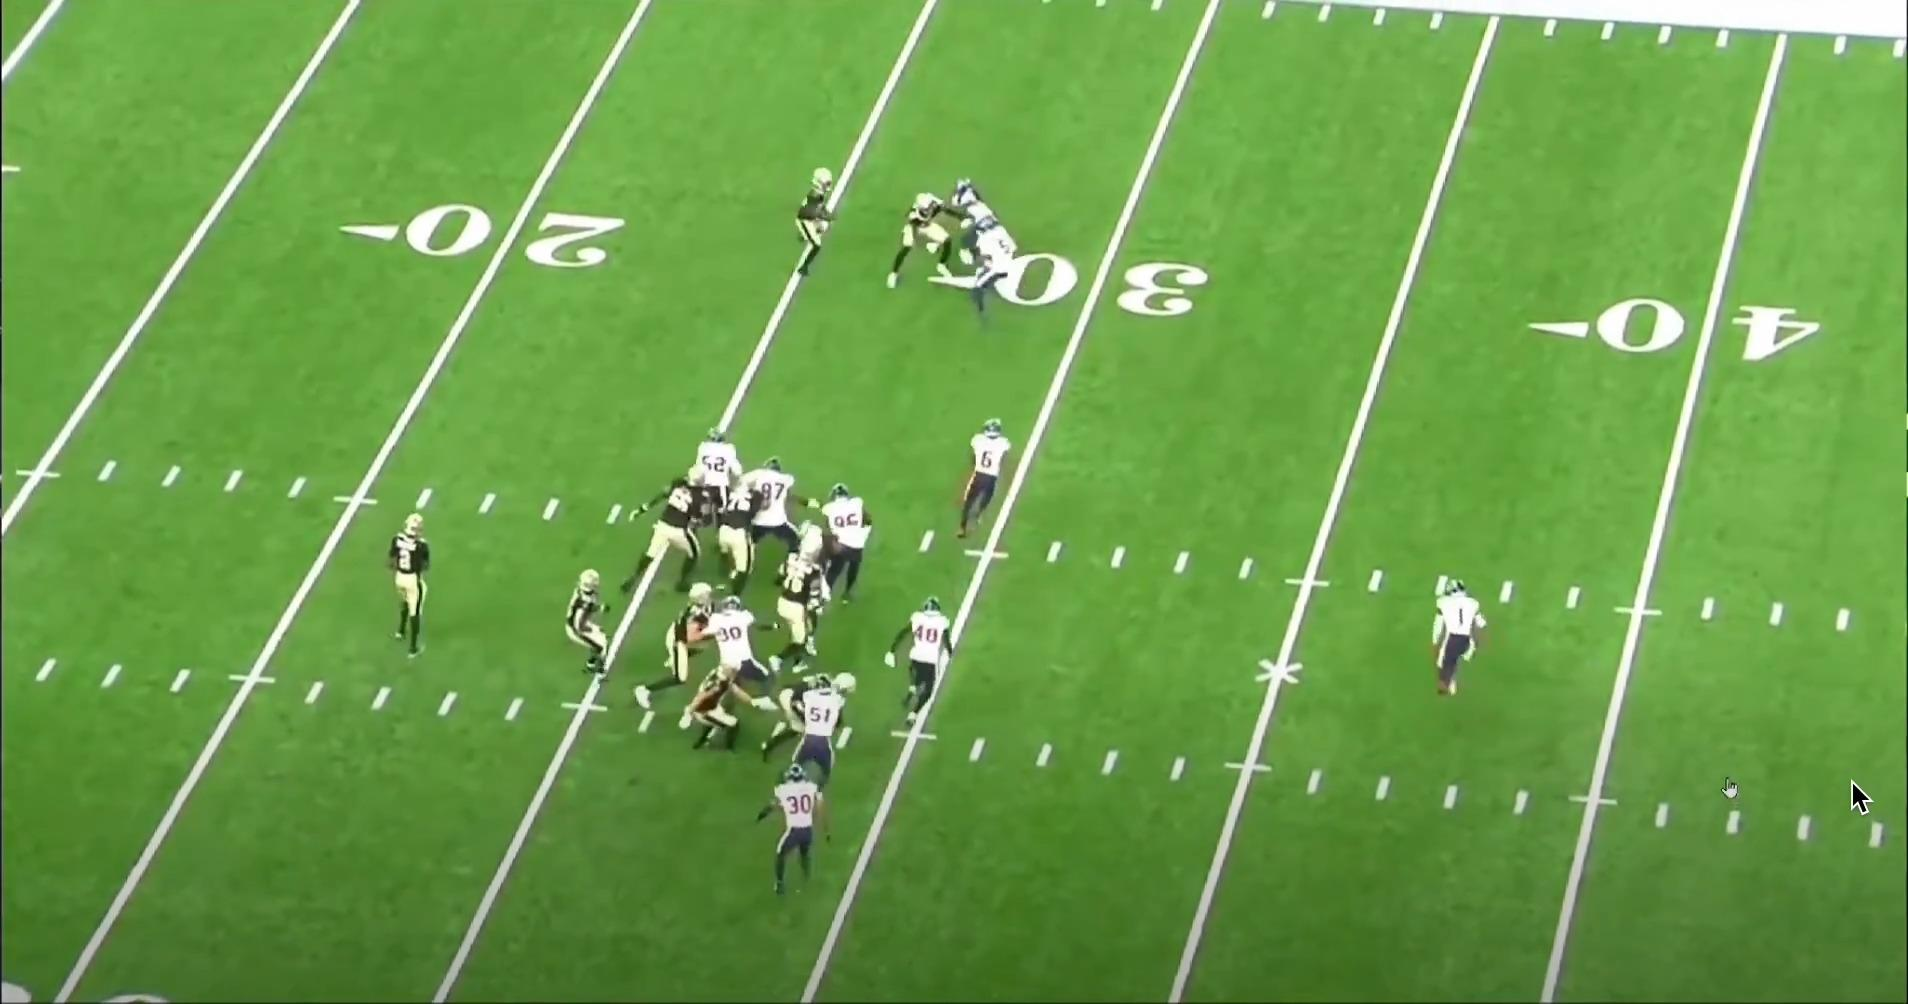defense: (705, 461, 793, 605), (696, 591, 780, 727), (889, 594, 965, 729), (747, 764, 821, 901), (1429, 575, 1494, 705), (791, 677, 863, 785), (818, 479, 879, 606), (958, 417, 1016, 540), (685, 426, 748, 523), (947, 176, 999, 277)
oline: (621, 477, 715, 596), (773, 542, 837, 676), (762, 671, 856, 758), (716, 470, 767, 589)
qb: (386, 509, 444, 664)
skill: (627, 582, 719, 712), (884, 187, 961, 292), (561, 561, 617, 682), (683, 667, 748, 762), (796, 165, 845, 289)
